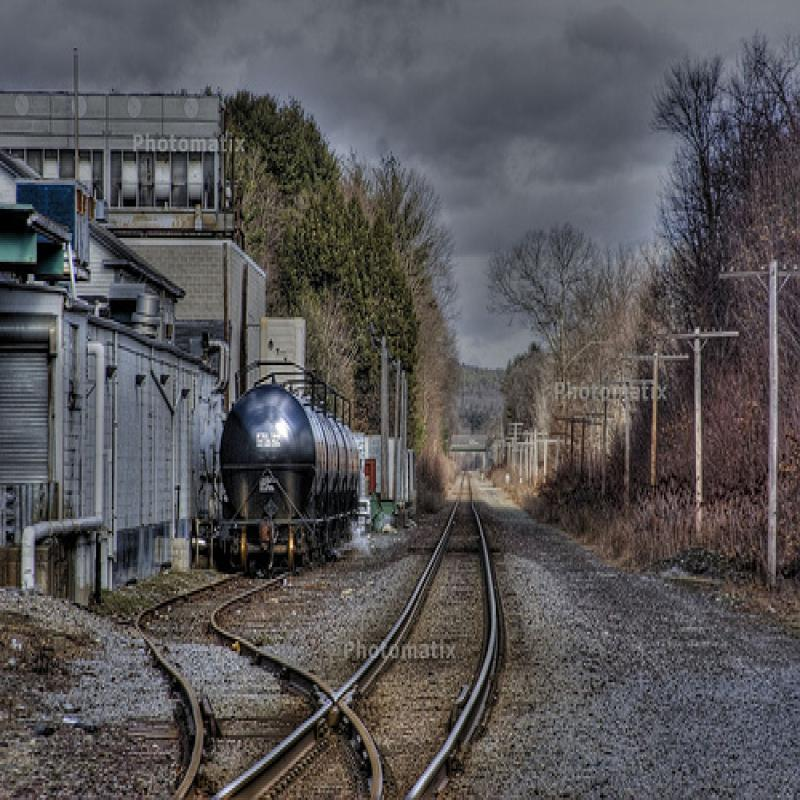train: (219, 359, 364, 573)
